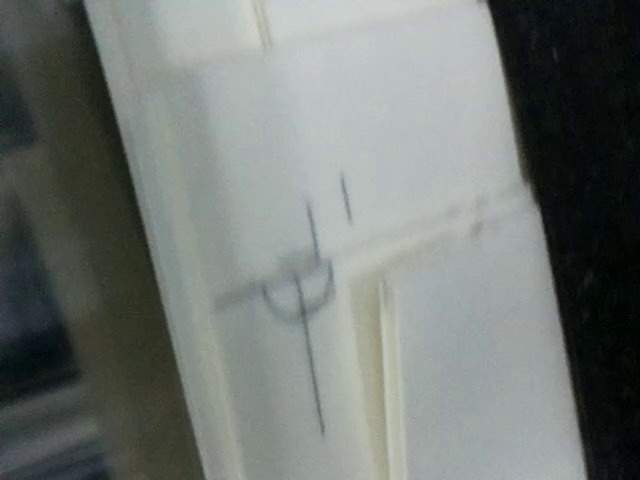not_sure: (206, 195, 349, 329)
